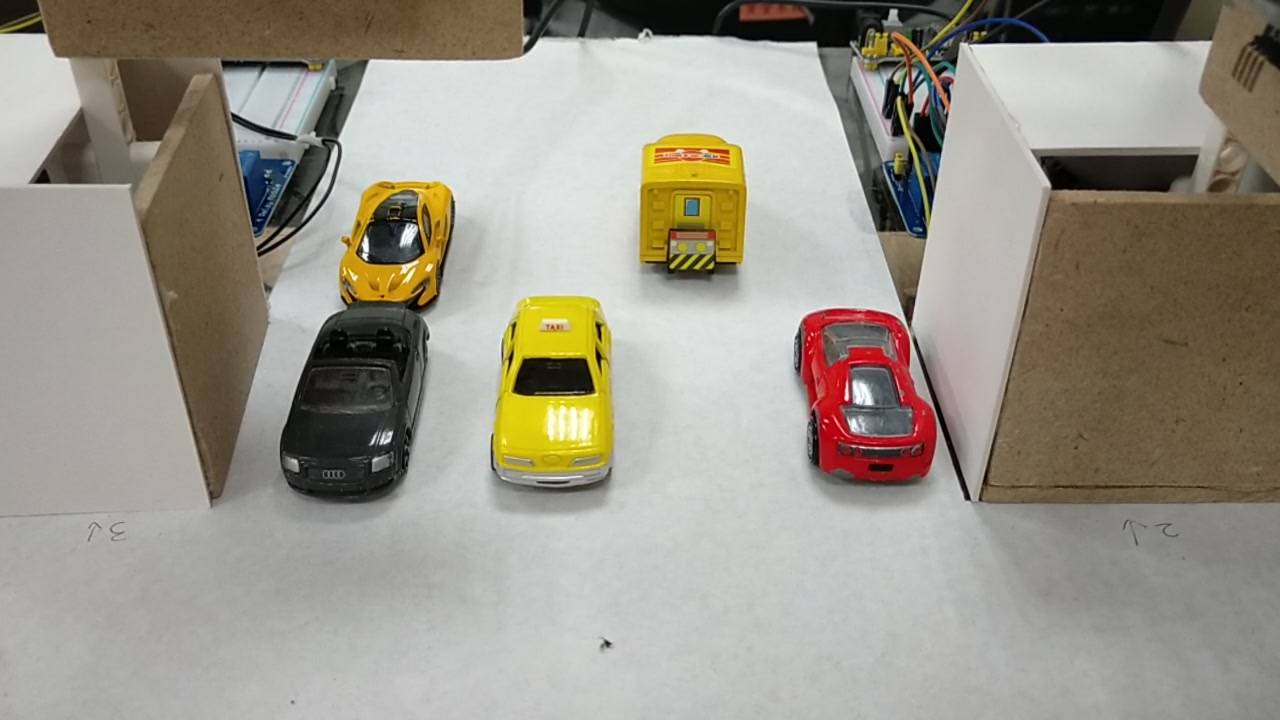car: (277, 314, 433, 486), (799, 307, 933, 489), (491, 292, 614, 482), (331, 178, 455, 306)
